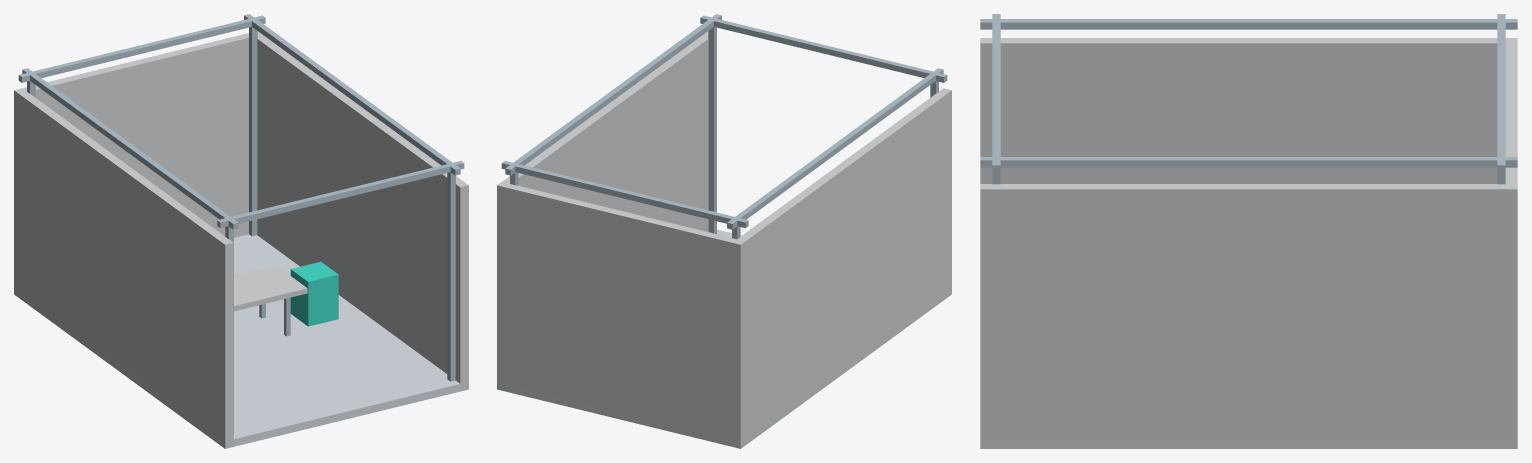
3 views of the same model, side by side, from view 1: azimuth 30°, elevation 25°; view 2: azimuth 150°, elevation 25°; view 3: azimuth 270°, elevation 25° (orthographic). The views are drawn at different scales.
Visible parts, largest first — view 1: Exhibition Booth Concept; view 2: Exhibition Booth Concept; view 3: Exhibition Booth Concept.
Boxes of the visible parts, x1,y1,x2,y2 form: Exhibition Booth Concept: (14, 14, 468, 448); Exhibition Booth Concept: (497, 14, 951, 448); Exhibition Booth Concept: (980, 14, 1517, 448).
Size of the model in its own units: 4 by 3.49 by 6.
